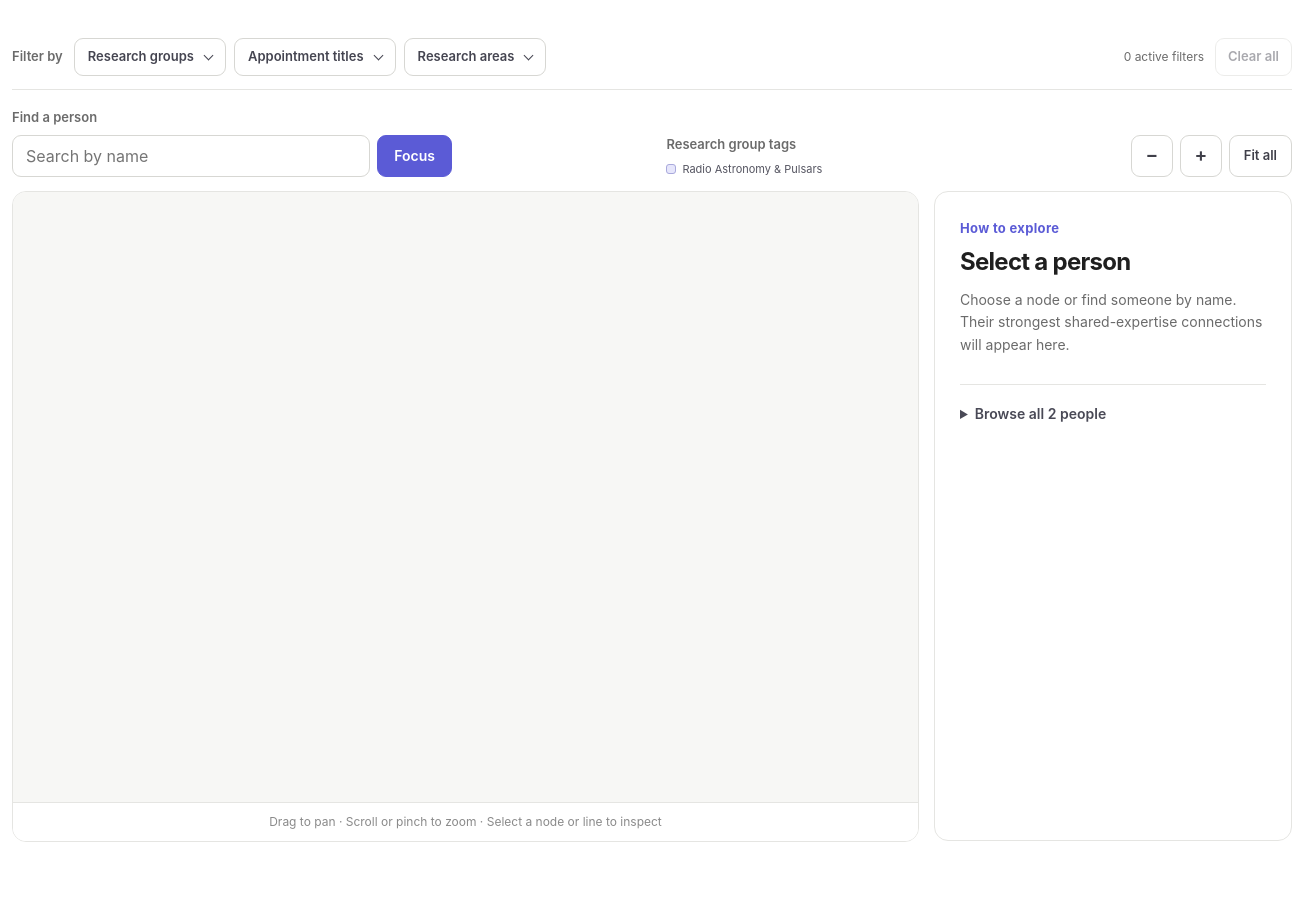
PeopleNetwork › clears a selection that becomes hidden by filters
The width and height of the screenshot is (1304, 900).
Type "Daniel Brooks" into the search field labelled "Find a person" at (191, 156), box [12, 134, 370, 176]
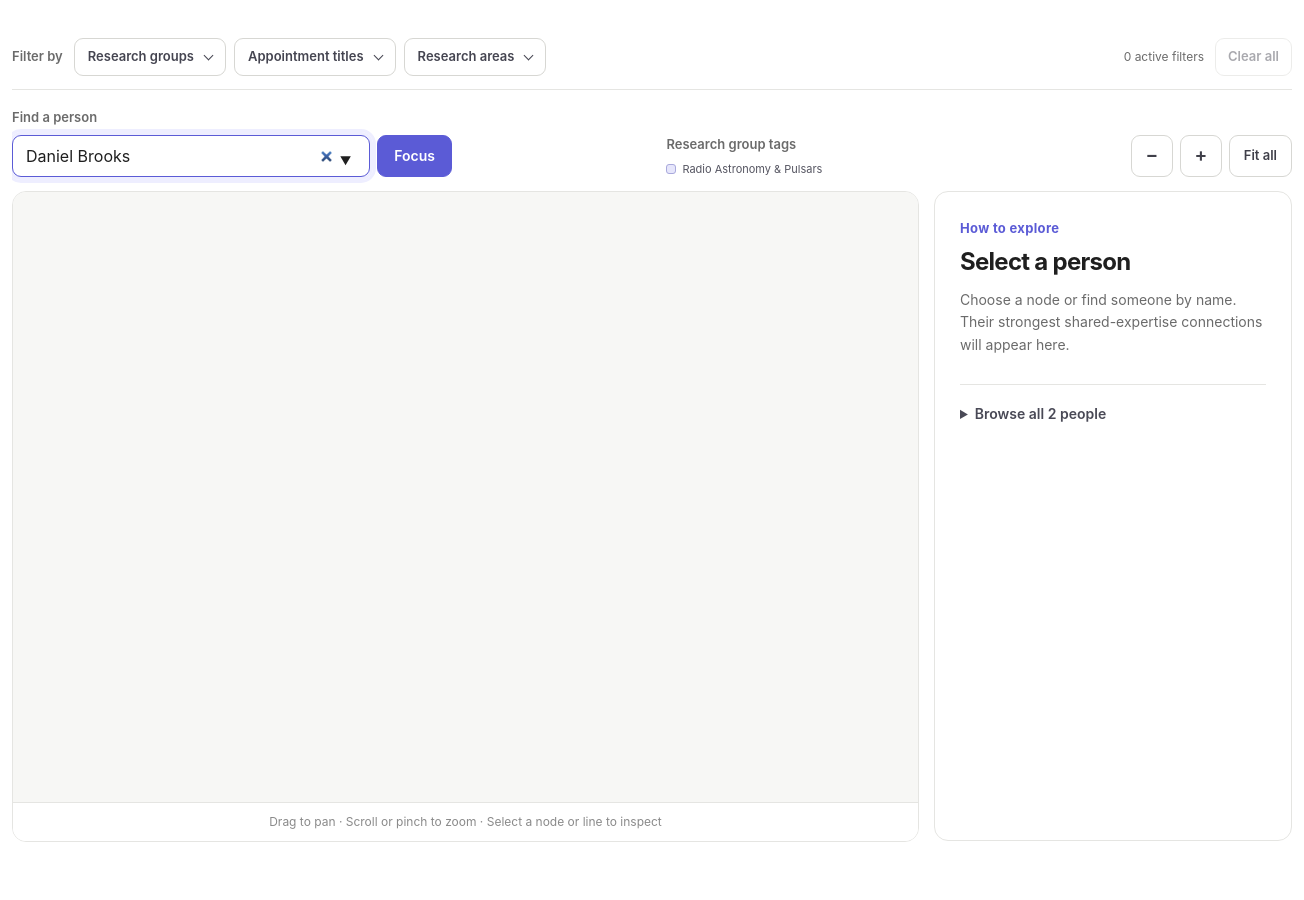
Click the button "Focus" at (415, 156), box [377, 134, 452, 176]
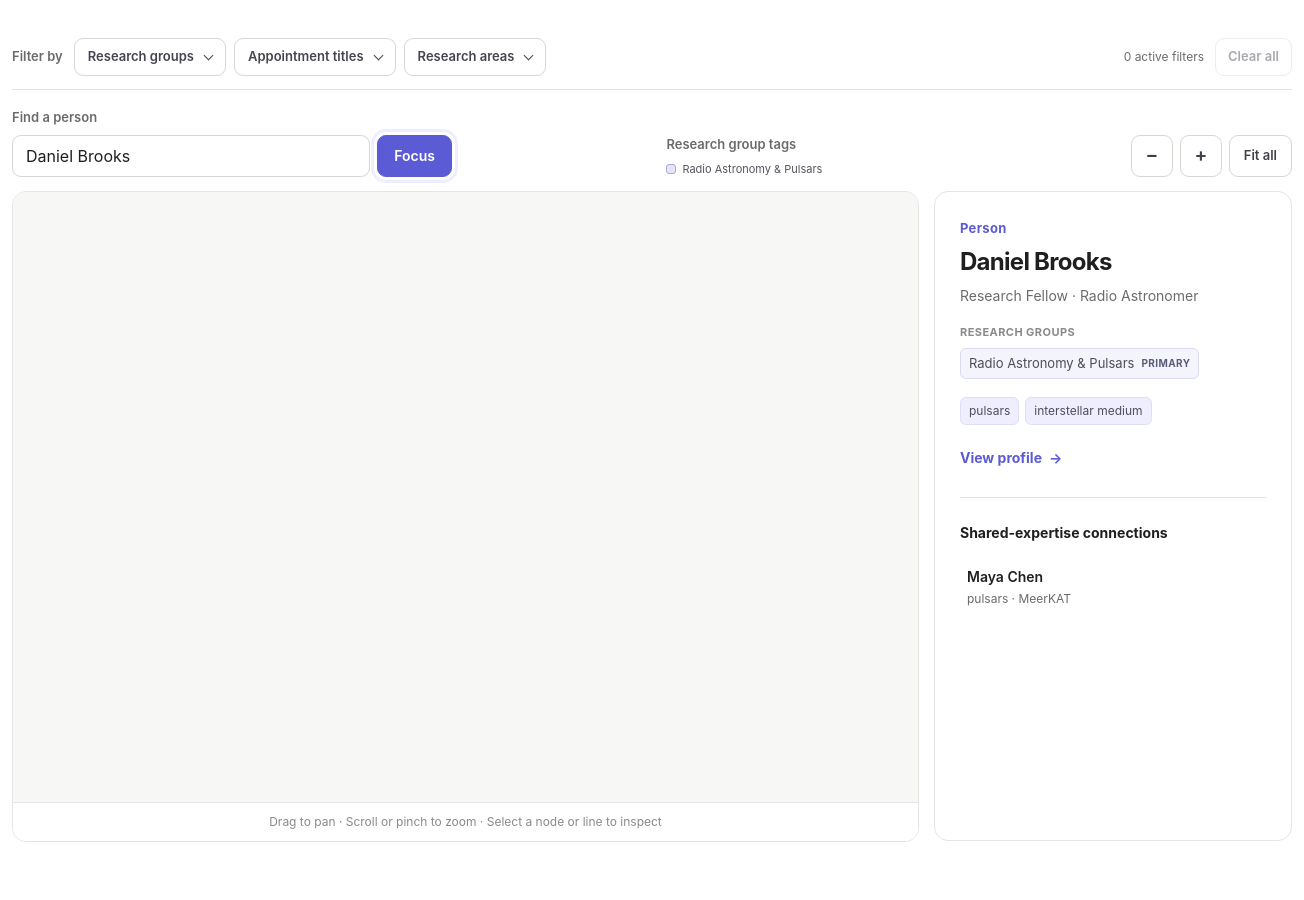
Check: the heading "Daniel Brooks" is shown, box [960, 247, 1112, 276]
Click the button "Appointment titles" at (315, 57), box [234, 38, 396, 76]
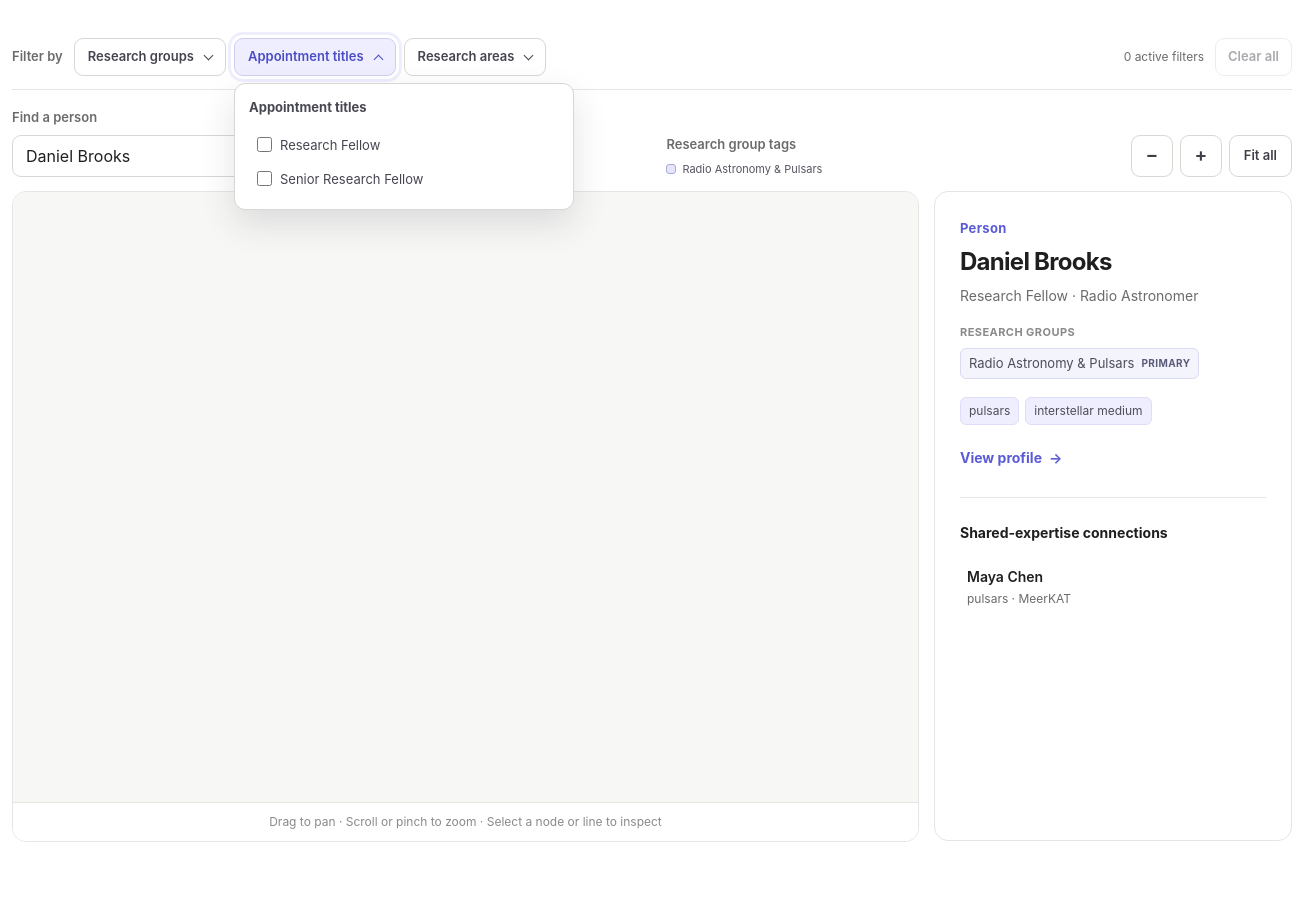
Click the checkbox labelled "Senior Research Fellow" at (264, 178), box [257, 171, 272, 186]
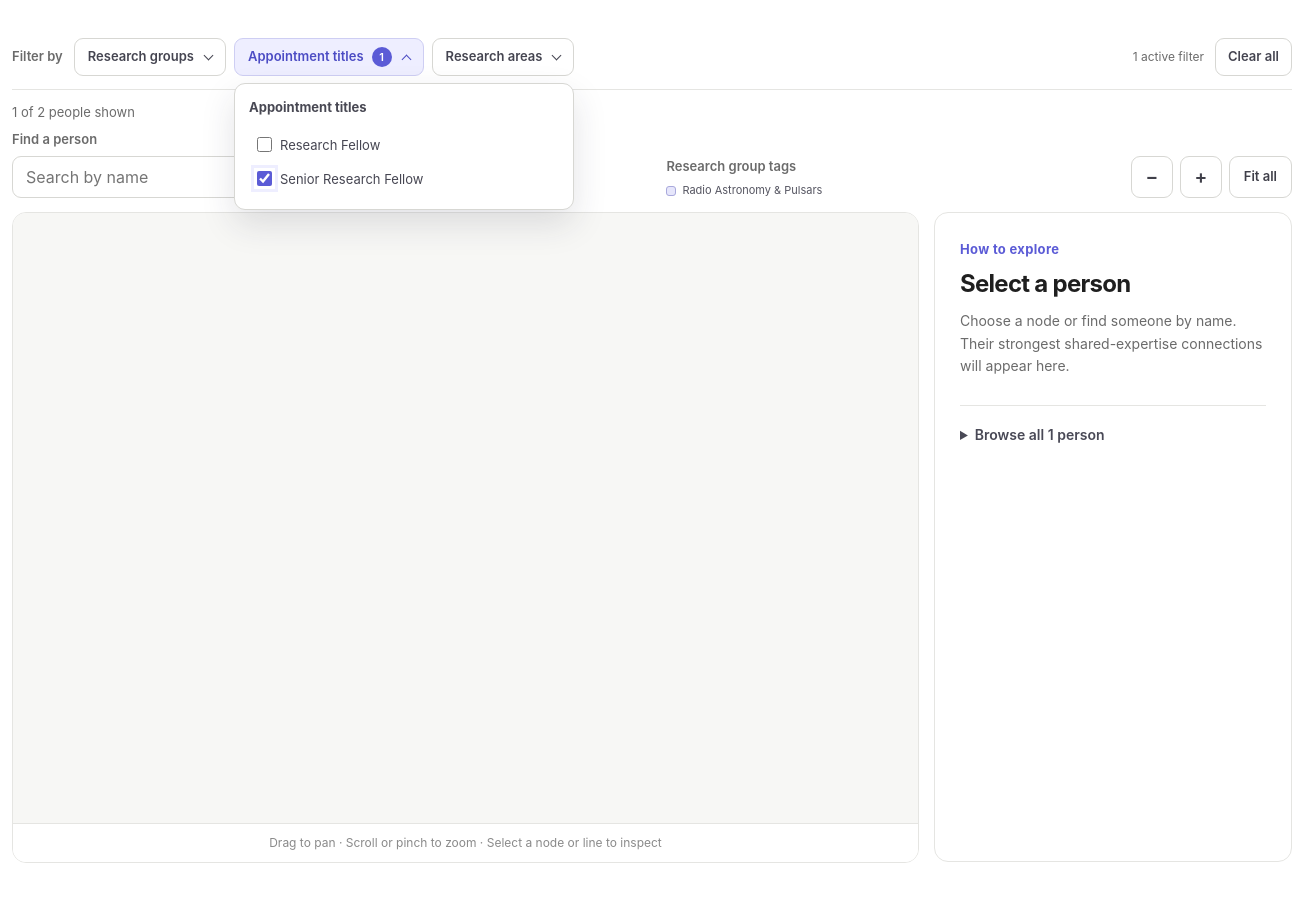
Check: the heading "Select a person" is shown, box [960, 268, 1130, 298]
